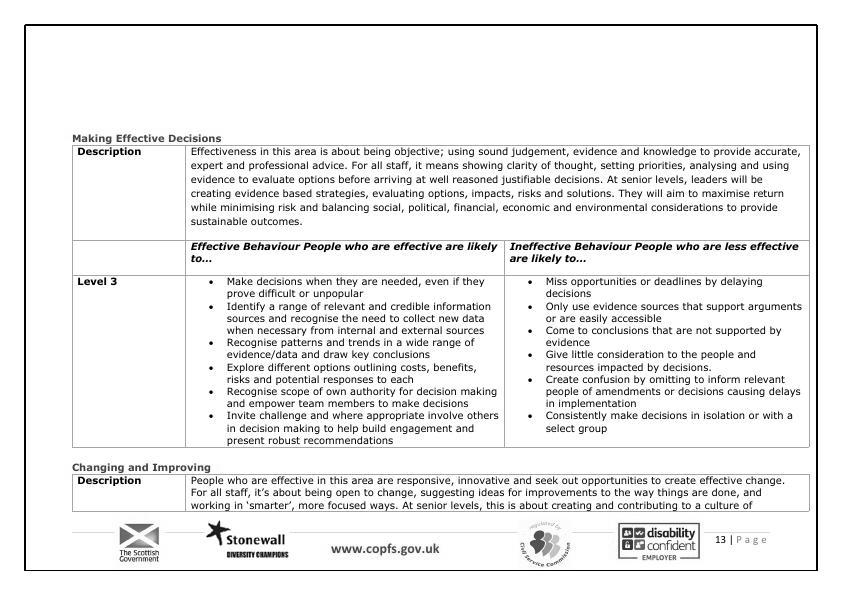table: (70, 143, 812, 451), (71, 472, 812, 514)
text: (71, 458, 215, 473), (70, 132, 225, 143)
